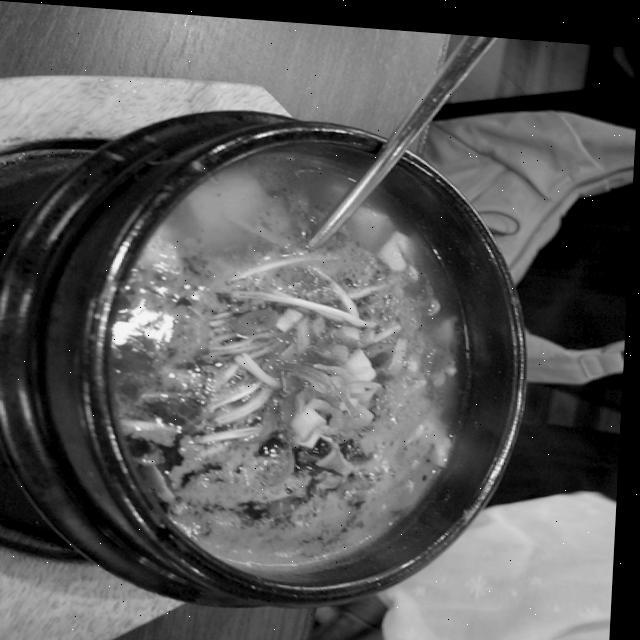汤锅炖物: (33, 113, 525, 611)
